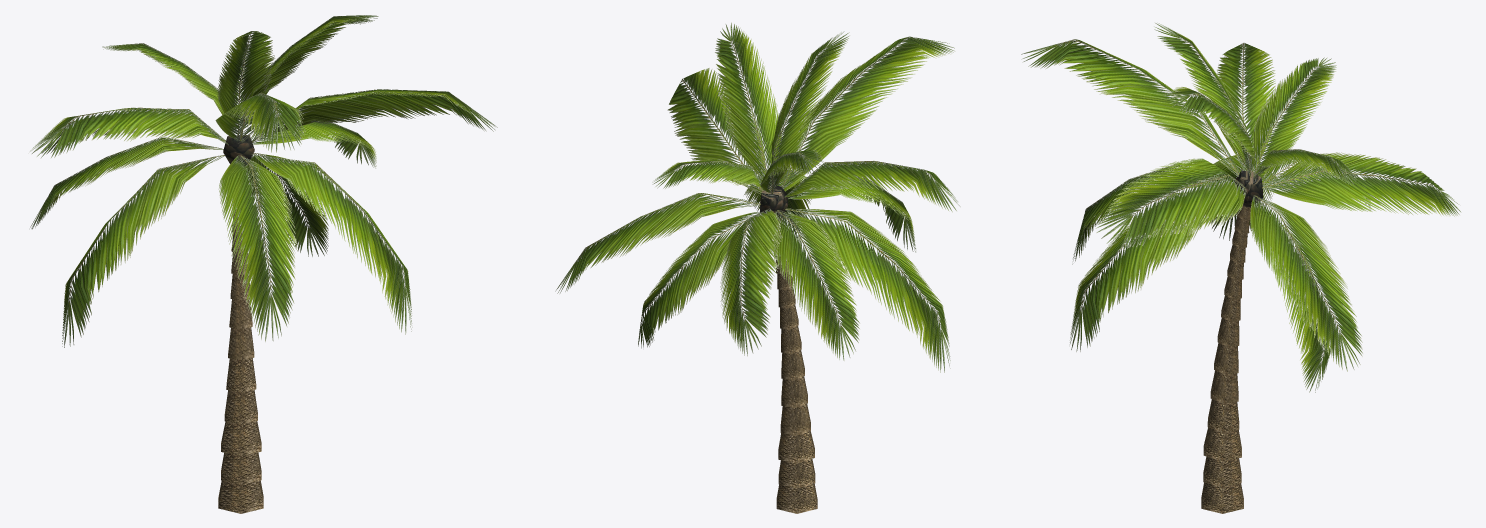
The model's file is PalmTree.FBX.
3 renders of one model, left to right at view 1: azimuth 30°, elevation 25°; view 2: azimuth 150°, elevation 25°; view 3: azimuth 270°, elevation 25°, orthographic. The views are drawn at different scales.
Parts seen in each view (by area): view 1: PalmTree; view 2: PalmTree; view 3: PalmTree.
Part boxes in pixels (x1,y1,x2,y2): PalmTree: [30, 15, 497, 513]; PalmTree: [555, 22, 960, 513]; PalmTree: [1021, 23, 1461, 513].
Bounding box in the file's own units: 7.72 × 7.99 × 9.
1 material, 1 textured.
